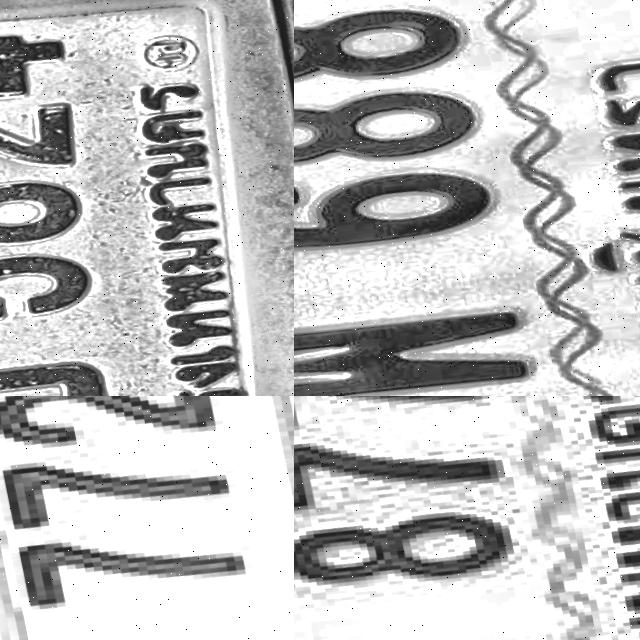license-plate: (294, 0, 640, 396), (0, 0, 294, 396), (294, 396, 640, 640), (0, 396, 294, 640)
